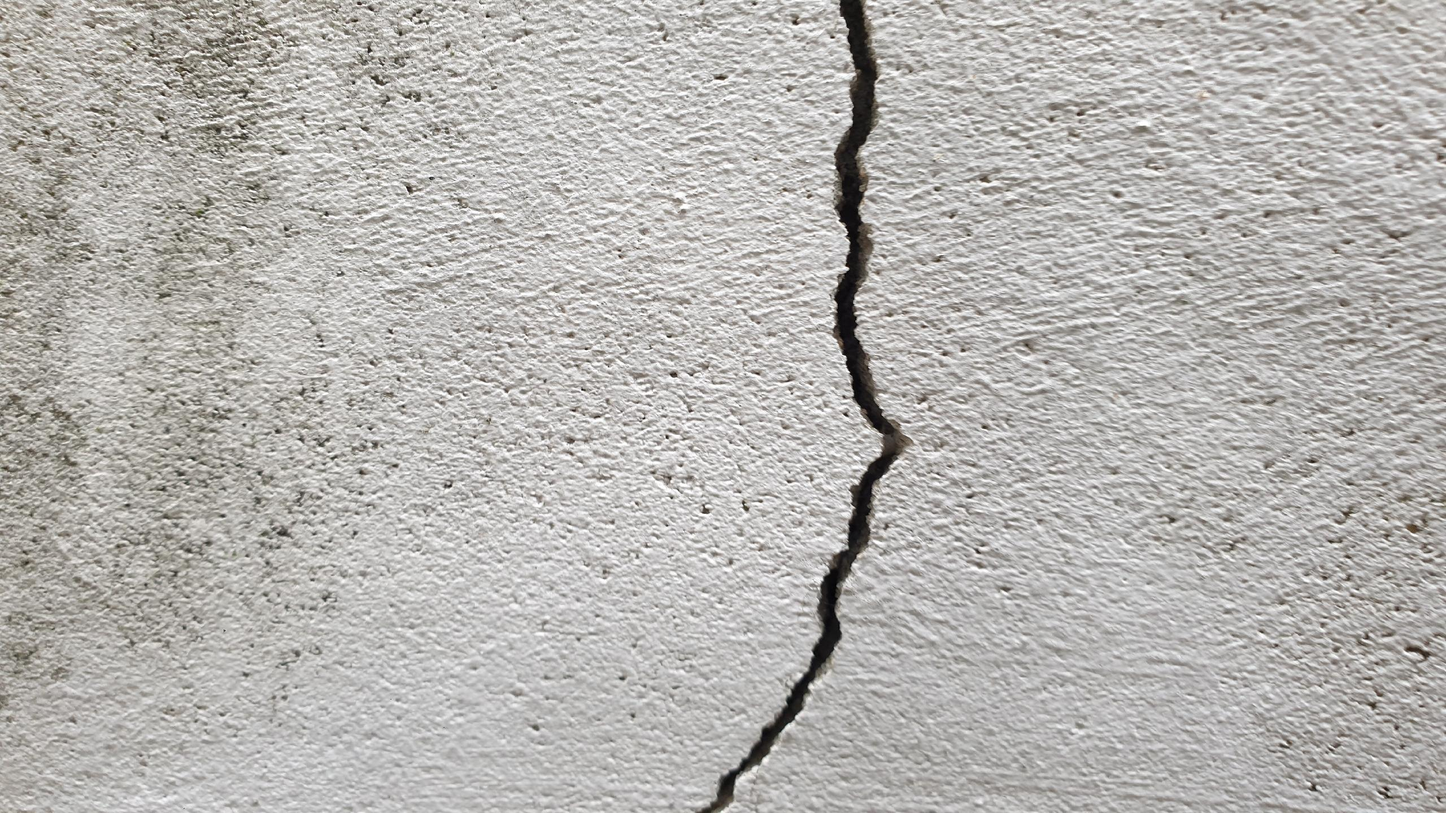crack: (700, 1, 914, 812)
